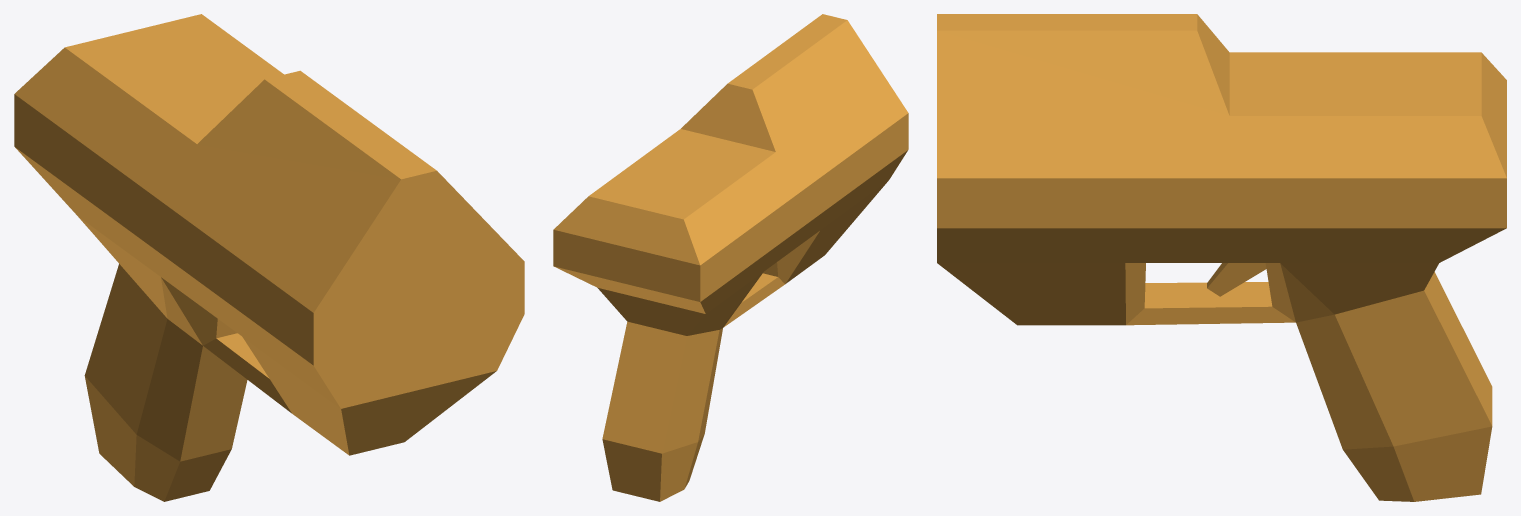
Rendered from matter-manipulator.fbx.
3 renders of one model, left to right at view 1: azimuth 30°, elevation 25°; view 2: azimuth 150°, elevation 25°; view 3: azimuth 270°, elevation 25°, orthographic. The views are drawn at different scales.
Parts seen in each view (by area): view 1: matter-manipulator; view 2: matter-manipulator; view 3: matter-manipulator.
Boxes of the visible parts, left/top/right/bottom form: matter-manipulator: left=14, top=14, right=524, bottom=501; matter-manipulator: left=553, top=14, right=908, bottom=501; matter-manipulator: left=937, top=14, right=1506, bottom=501.
Bounding box in the file's own units: 0.1123 × 0.2499 × 0.2759.
